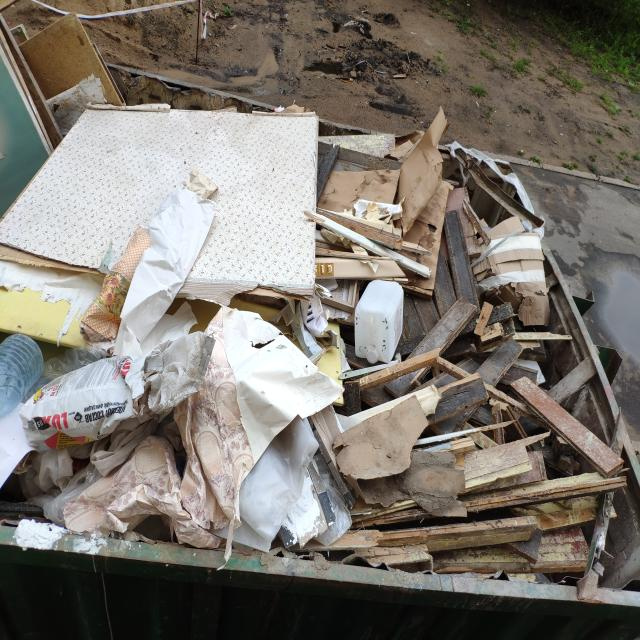entulho: (2, 107, 318, 300), (341, 397, 620, 584), (196, 412, 363, 551), (6, 412, 191, 536), (221, 310, 344, 459), (364, 112, 456, 305), (395, 294, 558, 399), (331, 376, 447, 488), (119, 303, 216, 422), (440, 141, 535, 245), (314, 139, 405, 236), (4, 360, 130, 422), (470, 216, 551, 291), (352, 281, 408, 362), (0, 331, 44, 419), (228, 284, 313, 328), (348, 494, 428, 528)
